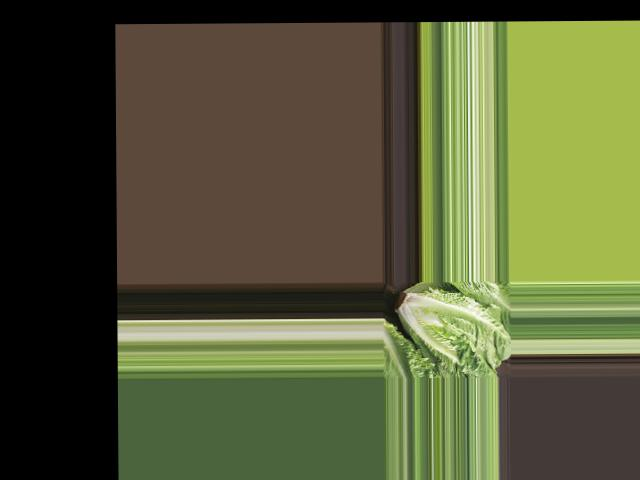lettuce: (389, 280, 509, 371)
